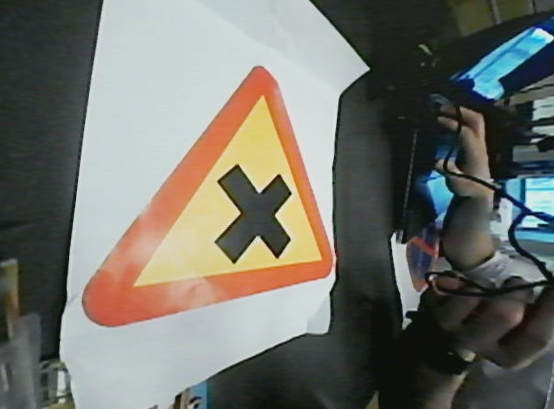junction: (75, 58, 341, 329)
